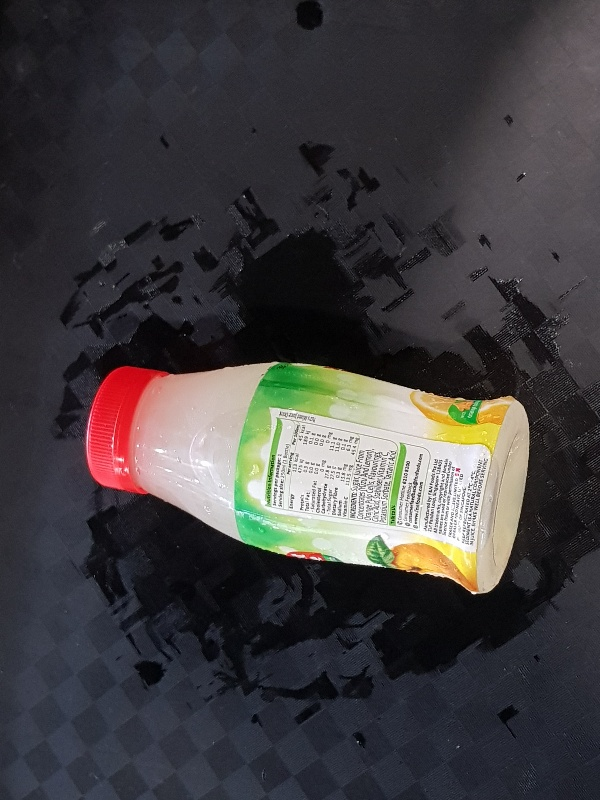Fruit Tree Yuzu Mixed Juice Drink: (85, 362, 530, 594)
